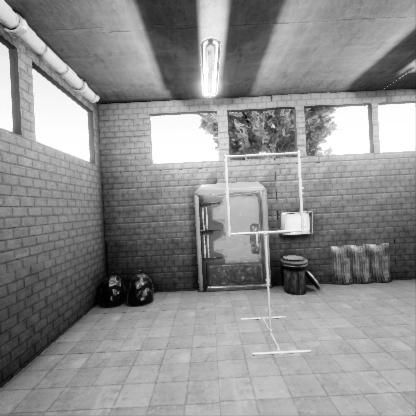gate: (224, 183, 309, 268)
